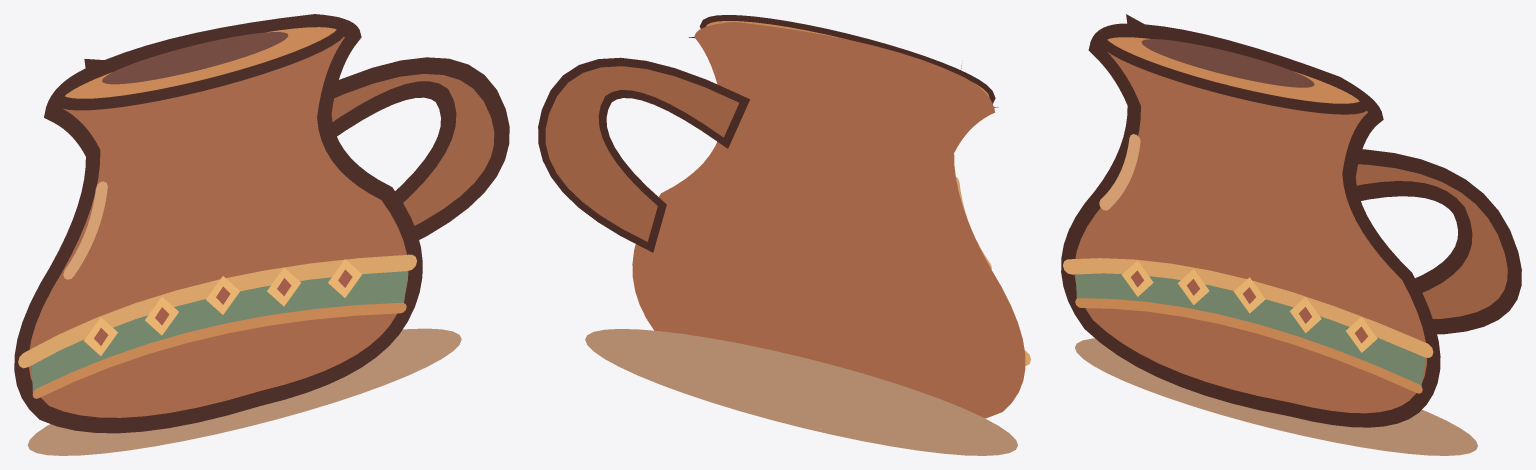
The model's file is ulcior.glb.
The picture shows the model from 3 angles, left to right: view 1: azimuth 30°, elevation 25°; view 2: azimuth 150°, elevation 25°; view 3: azimuth 330°, elevation 25°; orthographic projection. The views are drawn at different scales.
Visible parts, largest first — view 1: Painted pitcher.001; view 2: Painted pitcher.001; view 3: Painted pitcher.001.
Part boxes in pixels (left/top/right/bottom): Painted pitcher.001: left=14, top=14, right=509, bottom=455; Painted pitcher.001: left=538, top=15, right=1030, bottom=455; Painted pitcher.001: left=1061, top=14, right=1521, bottom=455.
Bounding box in the file's own units: 1.37 × 1.08 × 0.0226.
